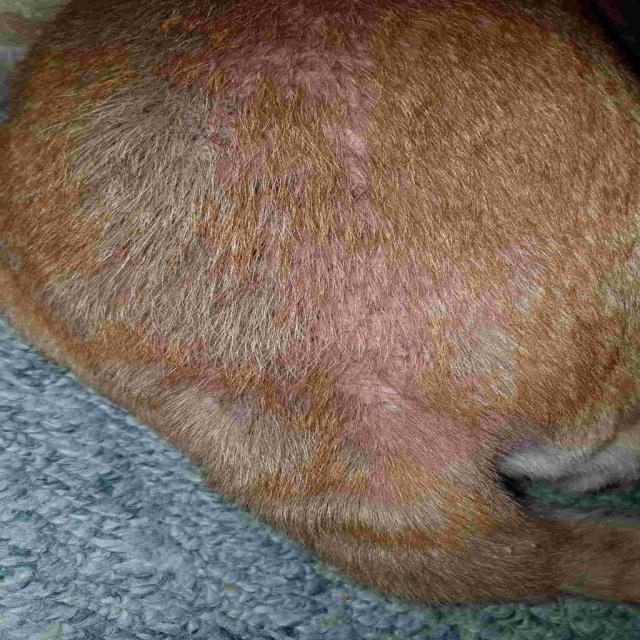fungal infection: (102, 75, 223, 346), (260, 224, 492, 337), (231, 47, 397, 197), (52, 267, 298, 357), (312, 343, 463, 463), (327, 484, 513, 554), (194, 393, 286, 454)
